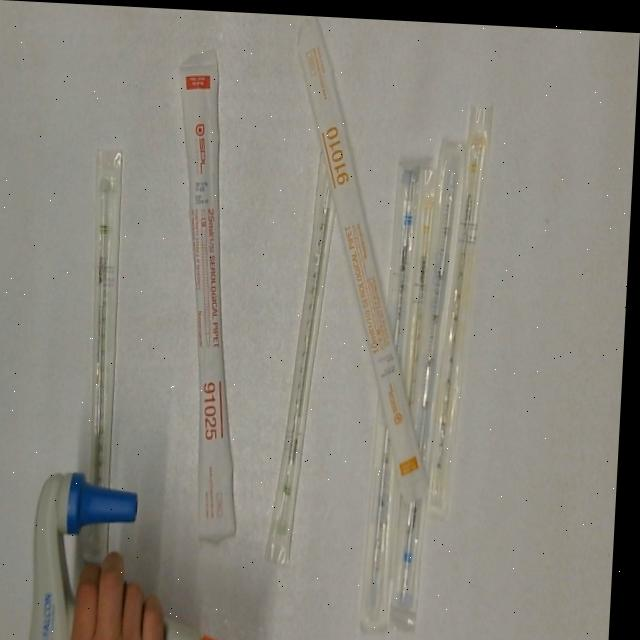Pipette Controller: (24, 467, 303, 640)
Serelogical Pipet 1 mL: (429, 97, 500, 514), (401, 161, 448, 415)
Serelogical Pipet 10 mL: (260, 13, 457, 504)
Serelogical Pipet 2 mL: (265, 139, 397, 565), (83, 145, 134, 566)
Serelogical Pipet 25 mL: (160, 43, 264, 545)
Serelogical Pipet 5 mL: (396, 131, 471, 612), (364, 144, 430, 628)
